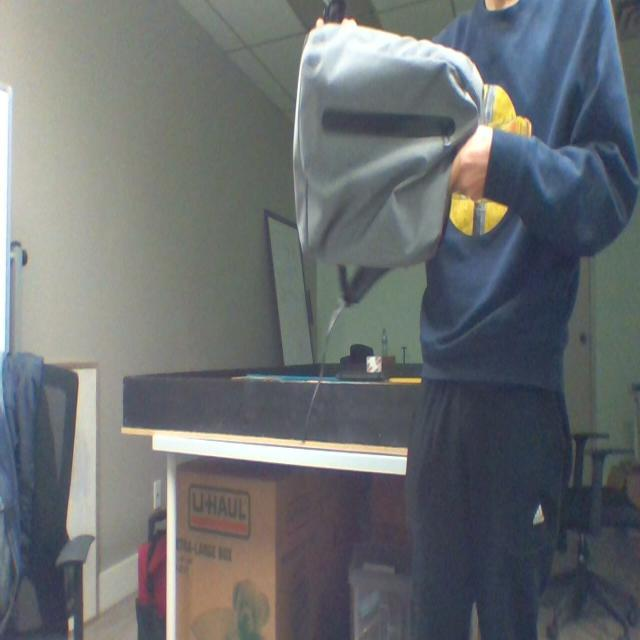Backpacks: (298, 19, 507, 270)
